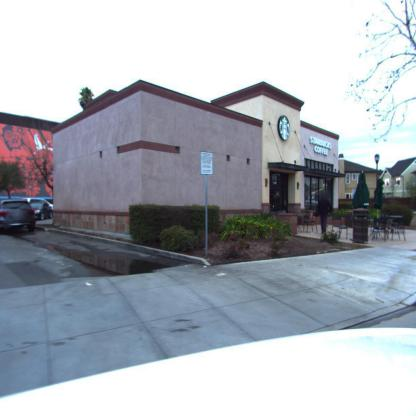bench: (297, 212, 319, 233)
car: (0, 199, 37, 236), (27, 198, 53, 220)
chair: (388, 217, 406, 242), (371, 218, 387, 242)
clock: (278, 116, 290, 142)
person: (318, 192, 333, 238)
umbrella: (351, 172, 371, 209)
